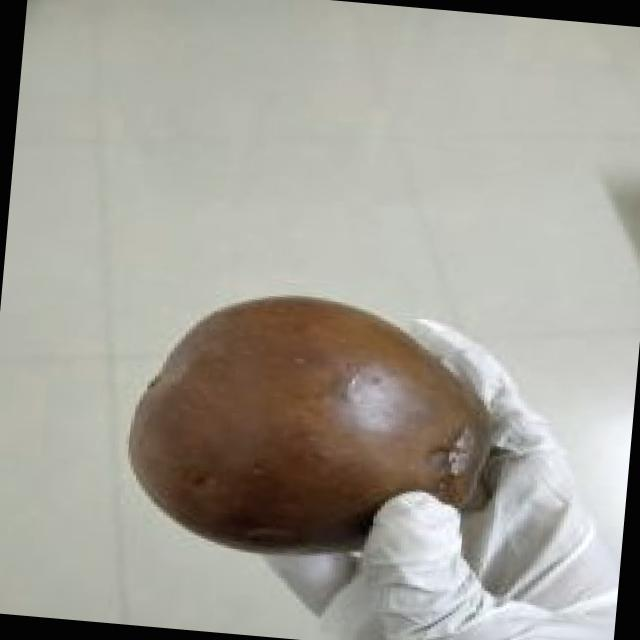Rotten_Apple: (63, 288, 544, 592)
